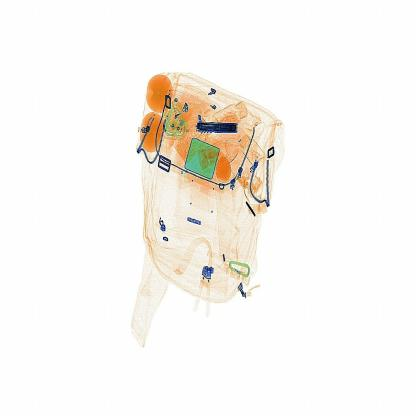scissors: (187, 117, 246, 145)
